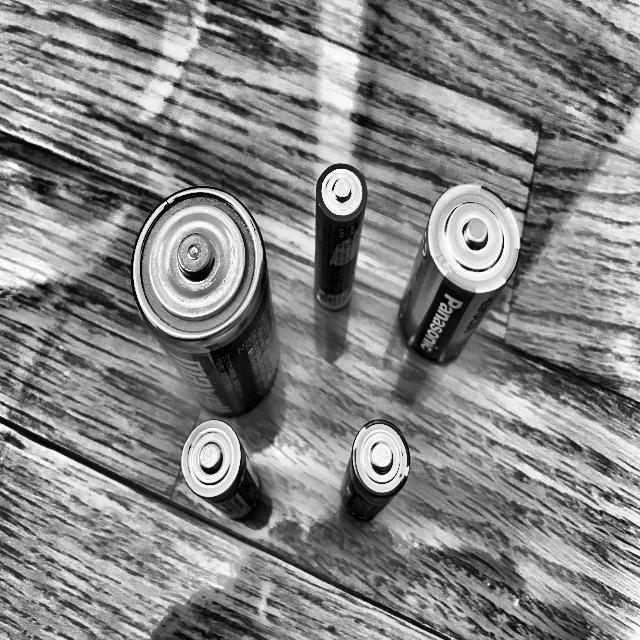drycell: (128, 183, 285, 422), (178, 417, 267, 528)
